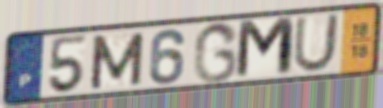5: (46, 33, 88, 97)
6: (147, 26, 188, 87)
G: (190, 19, 241, 85)
M: (233, 14, 298, 82), (88, 30, 147, 92)
U: (291, 12, 342, 74)
